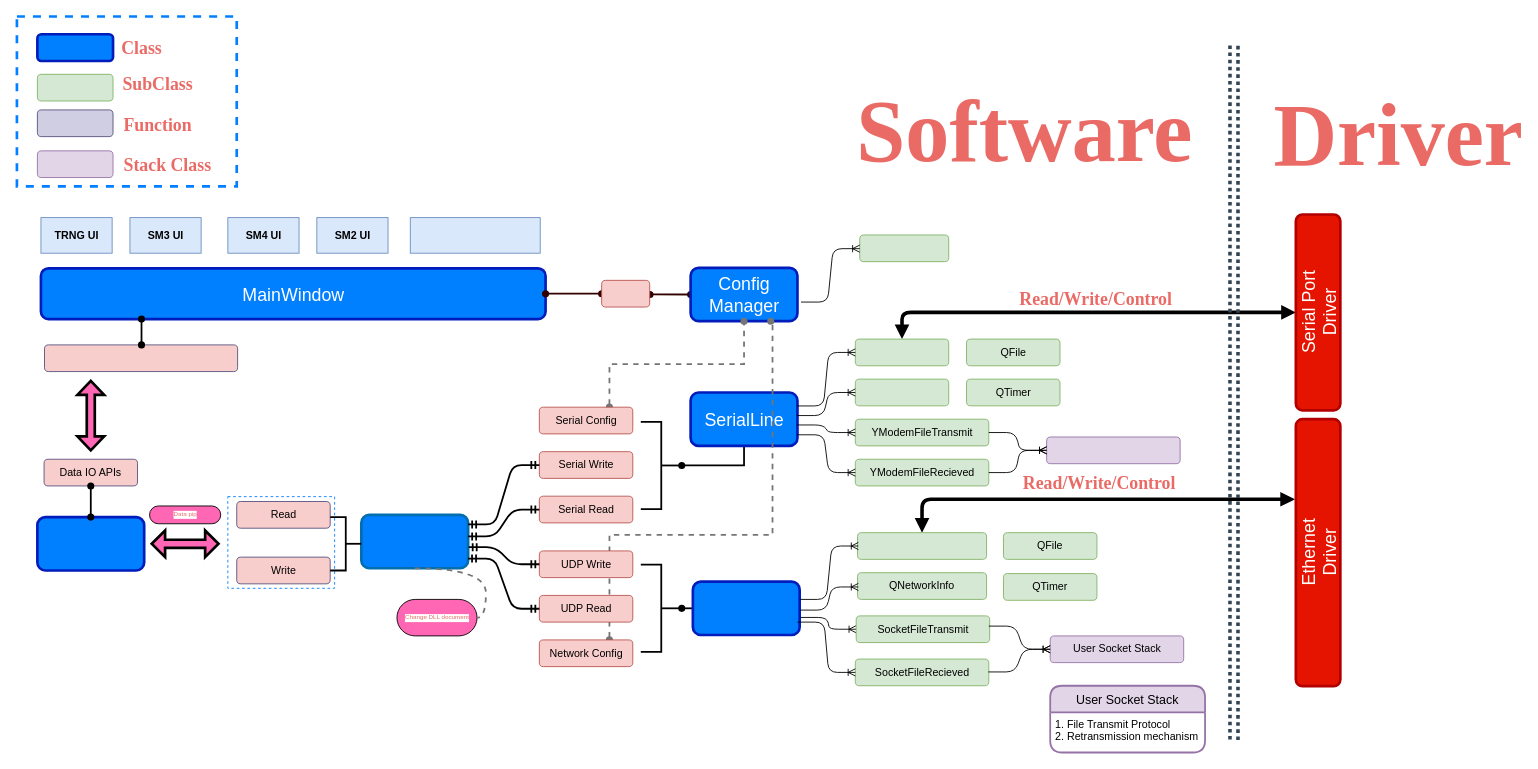
The diagram is 1538 pixels wide and 769 high, and some of its shapes have lost their labels. Here are the shapes that lost their labels. From the top down, the centre of each, then its label:
At (474,235): "Config UI".
At (904,248): "QSettings".
At (625,293): "cfg read write".
At (141,358): "Qt UI Functions (IO)".
At (901,352): "QSerialPort".
At (901,392): "QSerialInfo".
At (1113,450): "YModem Stack".
At (90,543): "Data Processor".
At (414,541): "Abstraction Layer API".
At (922,545): "QUdpSocket".
At (746,608): "NetworkLine".
